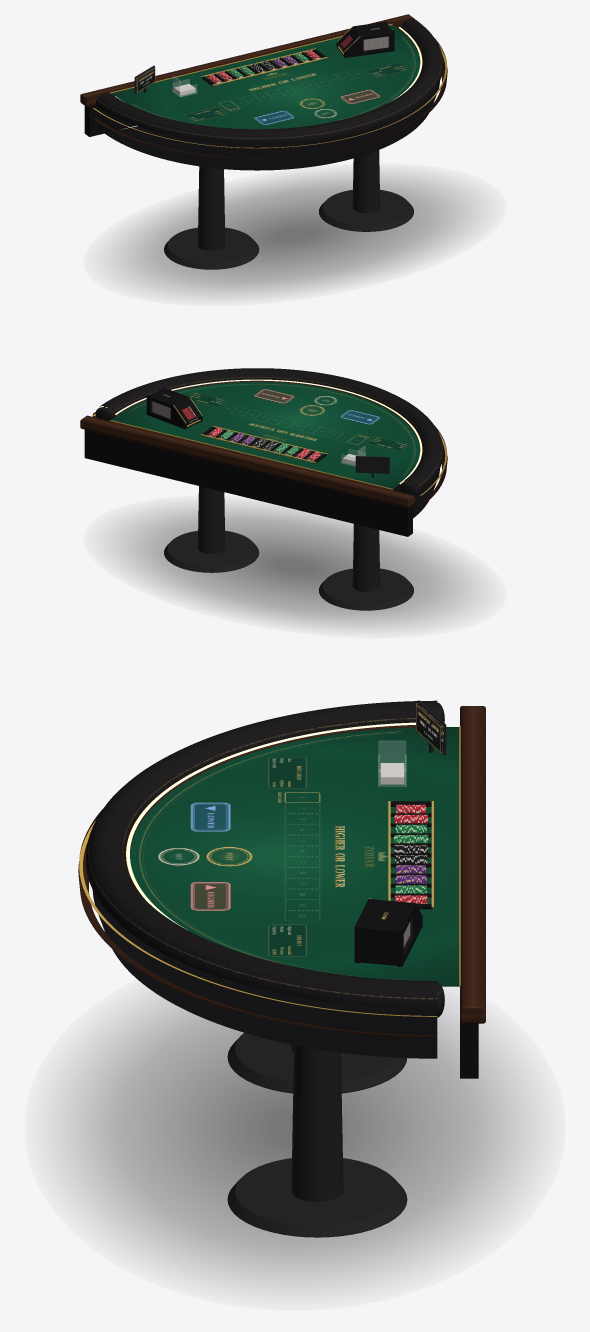
File: hilo_table.glb
3 renders of one model, top to bottom at view 1: azimuth 30°, elevation 25°; view 2: azimuth 150°, elevation 25°; view 3: azimuth 270°, elevation 25°, orthographic. The views are drawn at different scales.
Visible parts, largest first — view 1: FloorShadow, Felt, Apron, Rail, Foot (×2), Leg (×2), DealerEdge, WoodOuter, DealerApron, ShoeSide, GoldTrim, RackTray; view 2: FloorShadow, Felt, DealerApron, Rail, Foot (×2), DealerEdge, Leg (×2), WoodInner, LedStrip, SignFrame, ShoeSide, BrassStrip (+2 smaller); view 3: FloorShadow, Felt, Rail, Apron, Foot (×2), DealerEdge, Leg, WoodOuter, LedStrip, ShoeBack, WoodInner, RackTray (+7 smaller).
Part boxes in pixels (left/top/right/bottom): FloorShadow: left=116, top=174, right=473, bottom=294; Felt: left=111, top=24, right=420, bottom=129; Apron: left=104, top=81, right=439, bottom=170; Rail: left=96, top=18, right=443, bottom=144; Foot (×2): left=164, top=190, right=413, bottom=269; Leg (×2): left=197, top=150, right=380, bottom=250; DealerEdge: left=80, top=14, right=414, bottom=107; WoodOuter: left=93, top=39, right=447, bottom=158; DealerApron: left=84, top=105, right=135, bottom=136; ShoeSide: left=344, top=31, right=394, bottom=57; GoldTrim: left=93, top=45, right=447, bottom=148; RackTray: left=201, top=49, right=326, bottom=86; FloorShadow: left=115, top=506, right=474, bottom=627; Felt: left=111, top=382, right=420, bottom=488; DealerApron: left=84, top=429, right=412, bottom=536; Rail: left=99, top=368, right=443, bottom=491; Foot (×2): left=164, top=530, right=413, bottom=610; DealerEdge: left=80, top=415, right=415, bottom=508; Leg (×2): left=197, top=486, right=380, bottom=591; WoodInner: left=114, top=379, right=422, bottom=484; LedStrip: left=115, top=379, right=422, bottom=484; SignFrame: left=355, top=456, right=389, bottom=473; ShoeSide: left=146, top=395, right=186, bottom=429; BrassStrip: left=110, top=420, right=392, bottom=489; FloorShadow: left=66, top=1000, right=523, bottom=1282; Felt: left=130, top=727, right=459, bottom=986; Rail: left=86, top=700, right=437, bottom=1009; Apron: left=92, top=890, right=437, bottom=1058; Foot (×2): left=227, top=1032, right=407, bottom=1237; DealerEdge: left=460, top=706, right=485, bottom=1023; Leg: left=291, top=1045, right=343, bottom=1201; WoodOuter: left=78, top=809, right=437, bottom=1037; LedStrip: left=126, top=722, right=415, bottom=929; ShoeBack: left=359, top=926, right=397, bottom=964; WoodInner: left=125, top=722, right=415, bottom=896; RackTray: left=390, top=801, right=432, bottom=909.
Bounding box in the file's own units: 2.4 × 0.915 × 1.5.
Materials: 28 (17 with a texture image).
